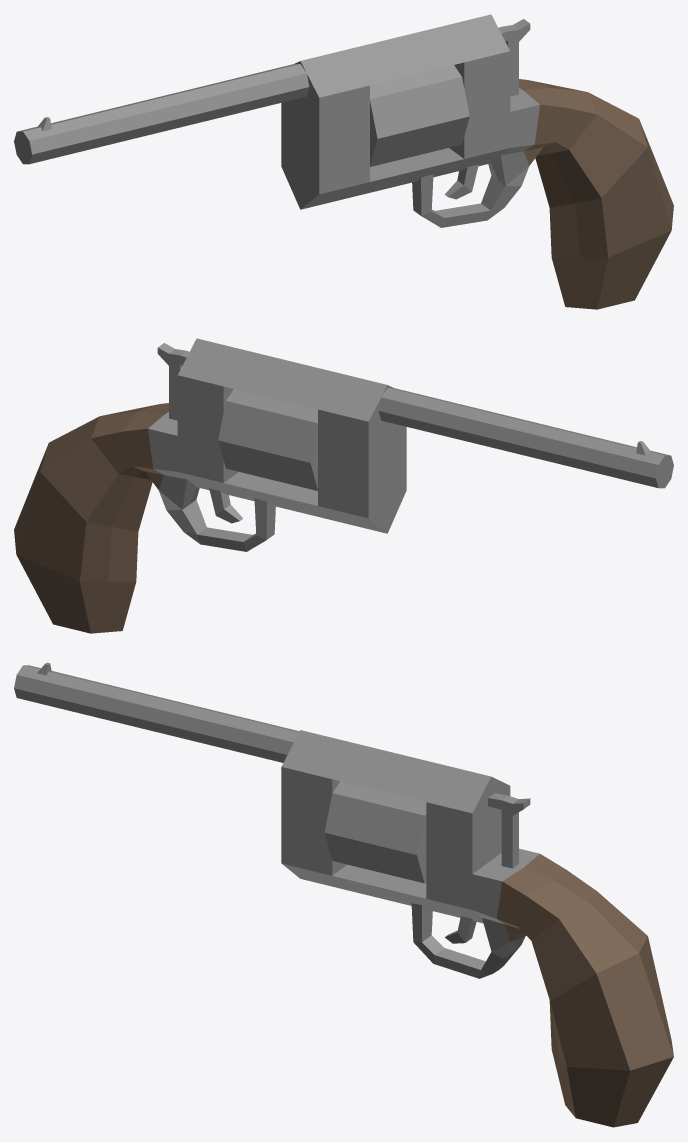
File: Gun.fbx
3 views of the same model, one above another, from view 1: azimuth 30°, elevation 25°; view 2: azimuth 150°, elevation 25°; view 3: azimuth 330°, elevation 25° (orthographic).
Visible parts, largest first — view 1: Gun; view 2: Gun; view 3: Gun.
Boxes of the visible parts, x1,y1,x2,y2 form: Gun: (14,14,673,309); Gun: (14,338,673,633); Gun: (14,662,673,1127).
Size of the model in its own units: 99.74 by 14.04 by 46.16.
